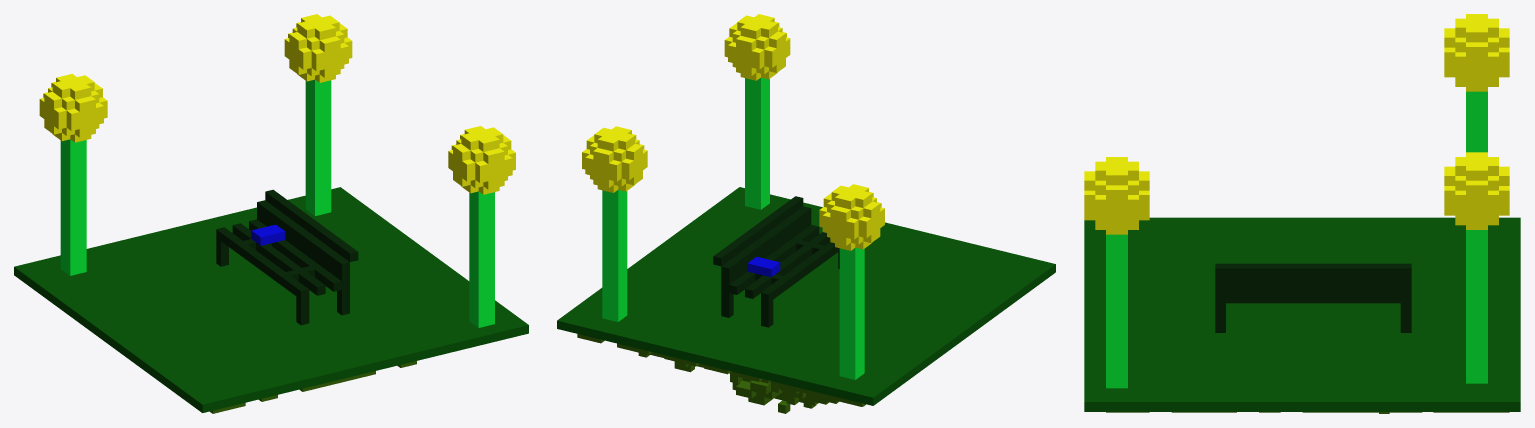
The model's file is bench.obj.
The picture shows the model from 3 angles, left to right: view 1: azimuth 30°, elevation 25°; view 2: azimuth 150°, elevation 25°; view 3: azimuth 270°, elevation 25°; orthographic projection. The views are drawn at different scales.
Visible parts, largest first — view 1: bench; view 2: bench; view 3: bench.
Part boxes in pixels (bbox=[...]): bench: bbox=[14, 14, 528, 413]; bench: bbox=[557, 14, 1055, 413]; bench: bbox=[1084, 14, 1520, 413].
Bounding box in the file's own units: 4 × 3.3 × 4.
Materials: 1 (1 with a texture image).
